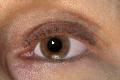eye: (40, 35, 69, 60)
